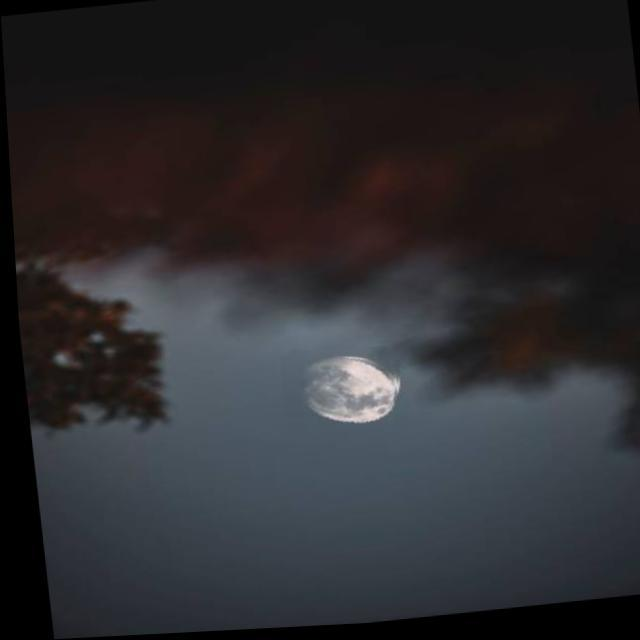moon: (274, 348, 400, 436)
